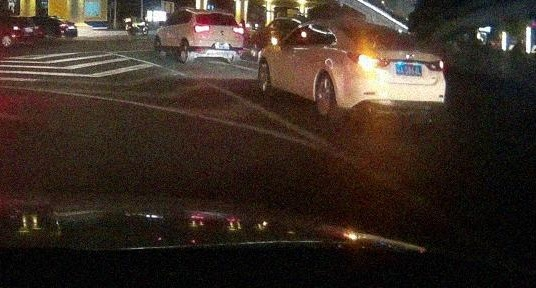L_light: (348, 51, 390, 66), (194, 24, 210, 32)
R_light: (424, 59, 444, 71), (233, 26, 244, 34)
T_light: (381, 29, 394, 33), (211, 13, 222, 15)
night-left: (337, 18, 446, 119)
night-no: (192, 9, 245, 64)
